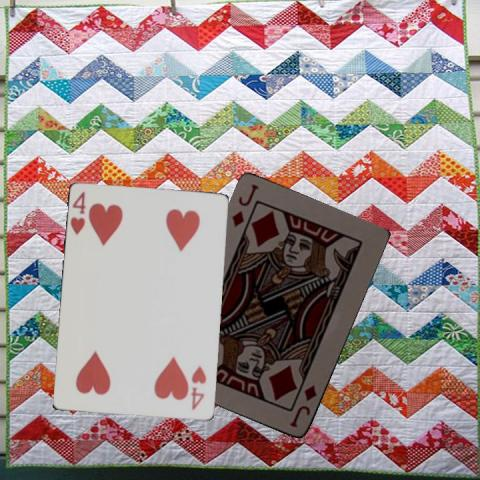4h: (68, 188, 88, 236), (189, 363, 208, 411)
Jd: (286, 382, 319, 429), (228, 182, 260, 229)
